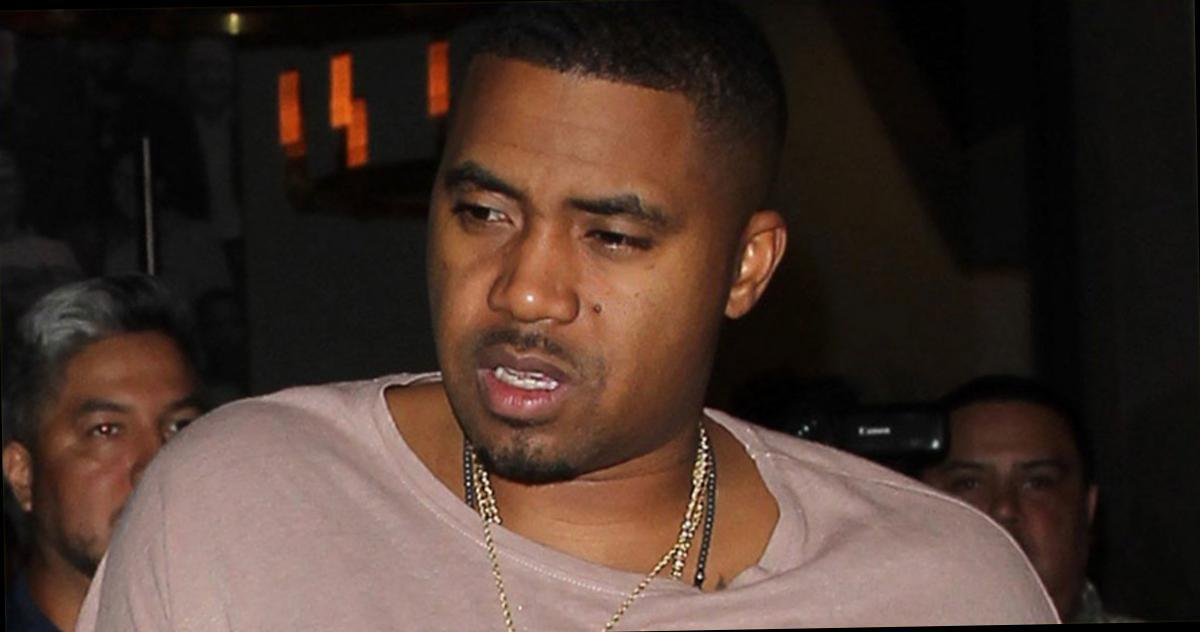Drunk: (439, 66, 704, 489)
